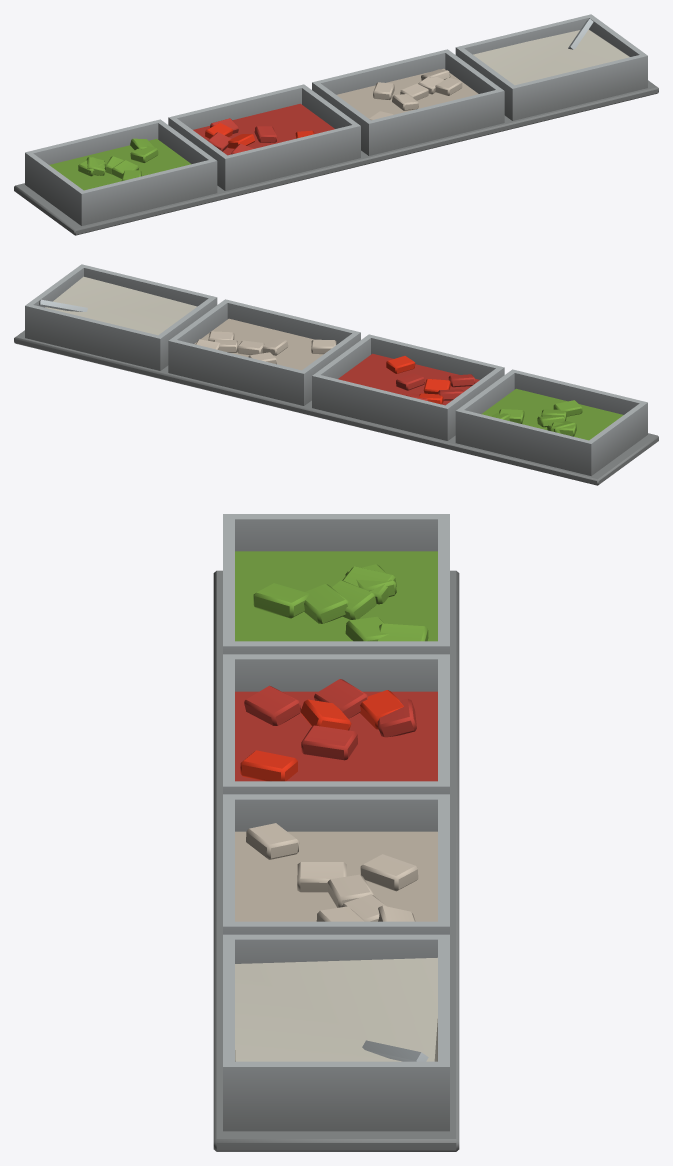
Rendered from 68_bacs_garnitures.fbx.
The picture shows the model from 3 angles, top to bottom: view 1: azimuth 30°, elevation 25°; view 2: azimuth 150°, elevation 25°; view 3: azimuth 270°, elevation 25°; orthographic projection. The views are drawn at different scales.
Parts seen in each view (by area): view 1: Bacs, Garnitures; view 2: Bacs, Garnitures; view 3: Bacs, Garnitures.
Boxes of the visible parts, x1,y1,x2,y2 form: Bacs: (14,14,658,235); Garnitures: (49,18,629,190); Bacs: (14,264,658,485); Garnitures: (38,276,623,440); Bacs: (213,514,459,1151); Garnitures: (235,551,437,1061).
Size of the model in its own units: 1.23 by 0.084 by 0.224.
Materials: 1 (1 with a texture image).
